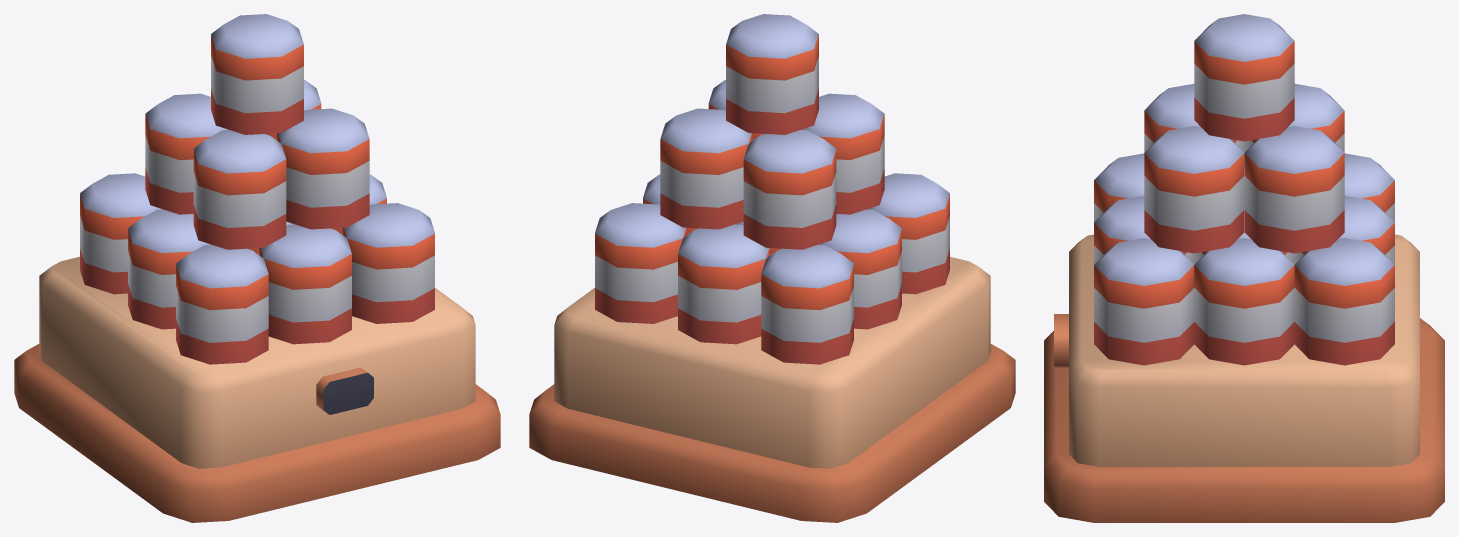
Rendered from display-cans.glb.
3 renders of one model, left to right at view 1: azimuth 30°, elevation 25°; view 2: azimuth 150°, elevation 25°; view 3: azimuth 270°, elevation 25°, orthographic. The views are drawn at different scales.
Visible parts, largest first — view 1: can (×9), display-cans; view 2: can (×9), display-cans; view 3: can (×12), display-cans.
Boxes of the visible parts, <box> form: can (×9): <box>80,14,434,364</box>; display-cans: <box>14,256,500,522</box>; can (×9): <box>595,14,949,364</box>; display-cans: <box>529,256,1015,522</box>; can (×12): <box>1094,14,1394,365</box>; display-cans: <box>1044,234,1444,522</box>.
Size of the model in its own units: 0.8 by 0.9 by 0.8.
1 material, 1 textured.
